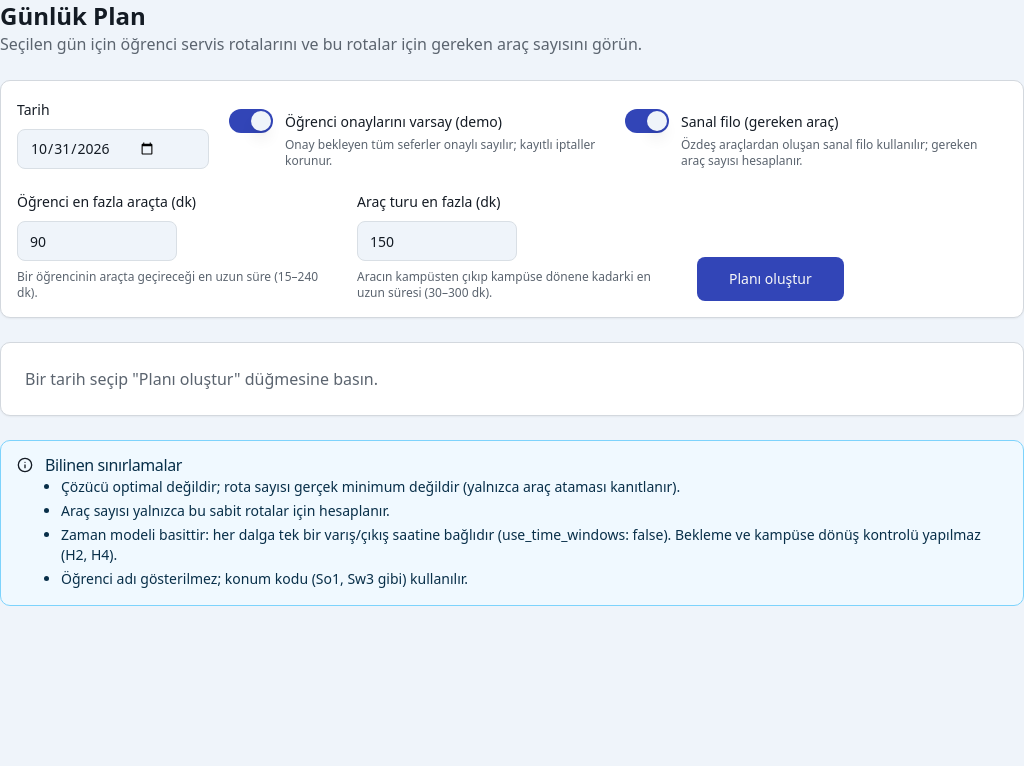
Test: DailyPlanPage › sends the adjusted limits
The width and height of the screenshot is (1024, 766).
In the date field labelled "Tarih": (113,149) [17,129,209,169], type "2026-10-05"
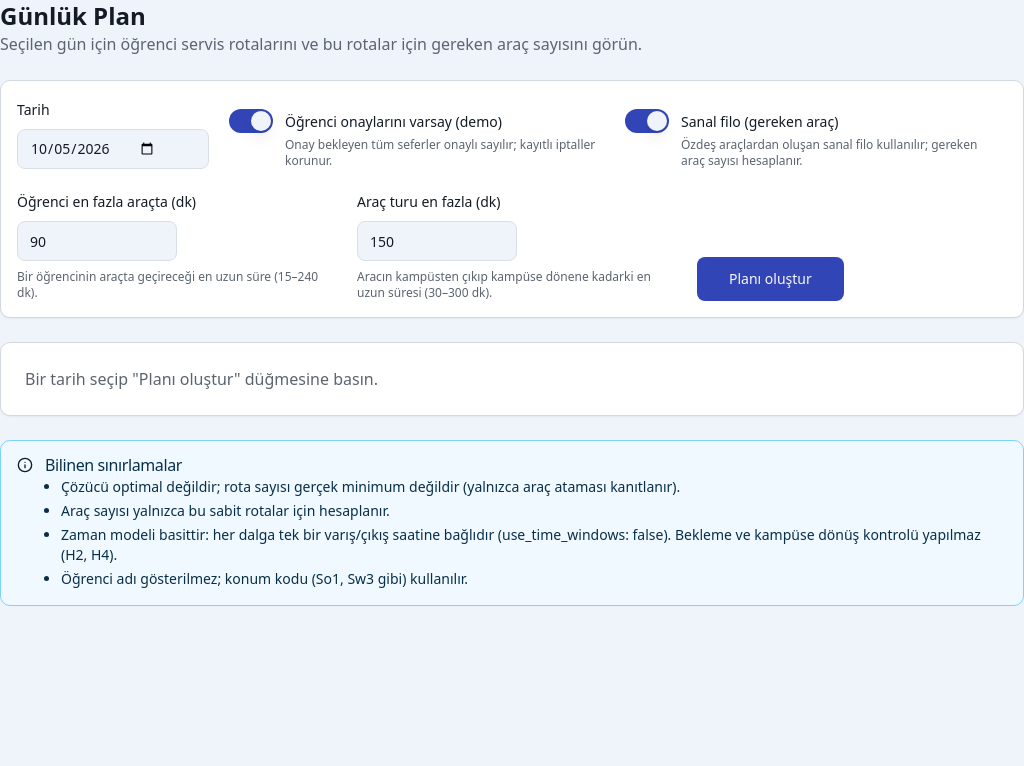
Replace the text in the number field labelled "Öğrenci en fazla araçta (dk)" with "60": (97,241) [17,221,177,261]
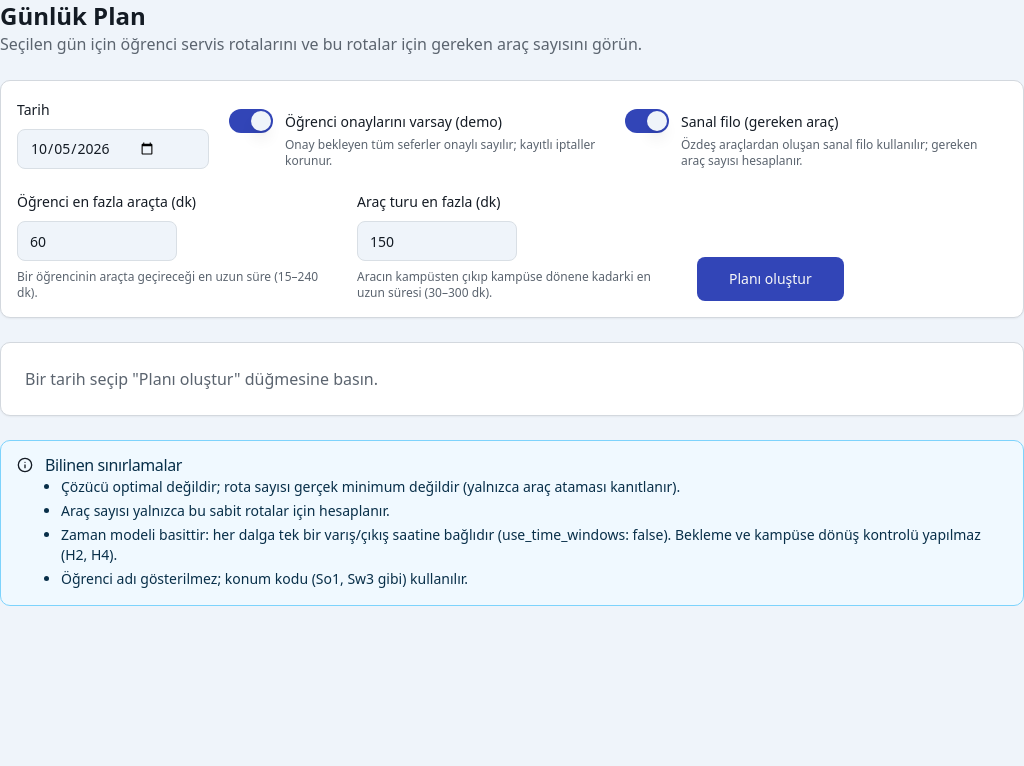
Replace the text in the number field labelled "Araç turu en fazla (dk)" with "200": (437,241) [357,221,517,261]
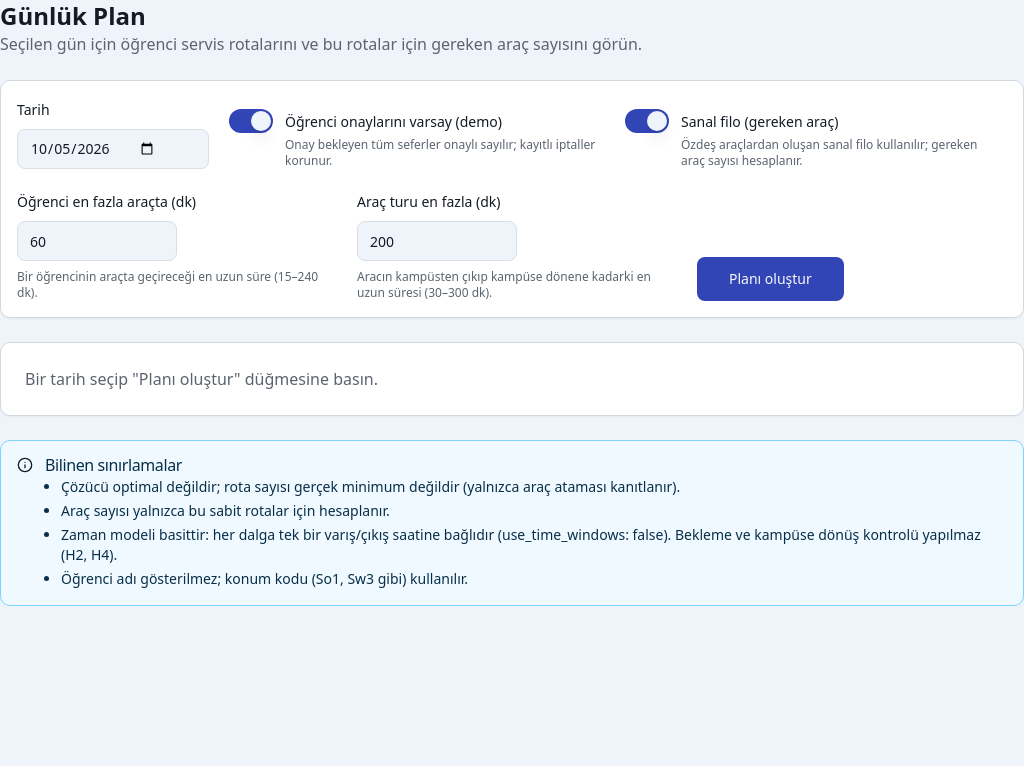
Click the button "Planı oluştur": (770,279) [697,257,844,301]
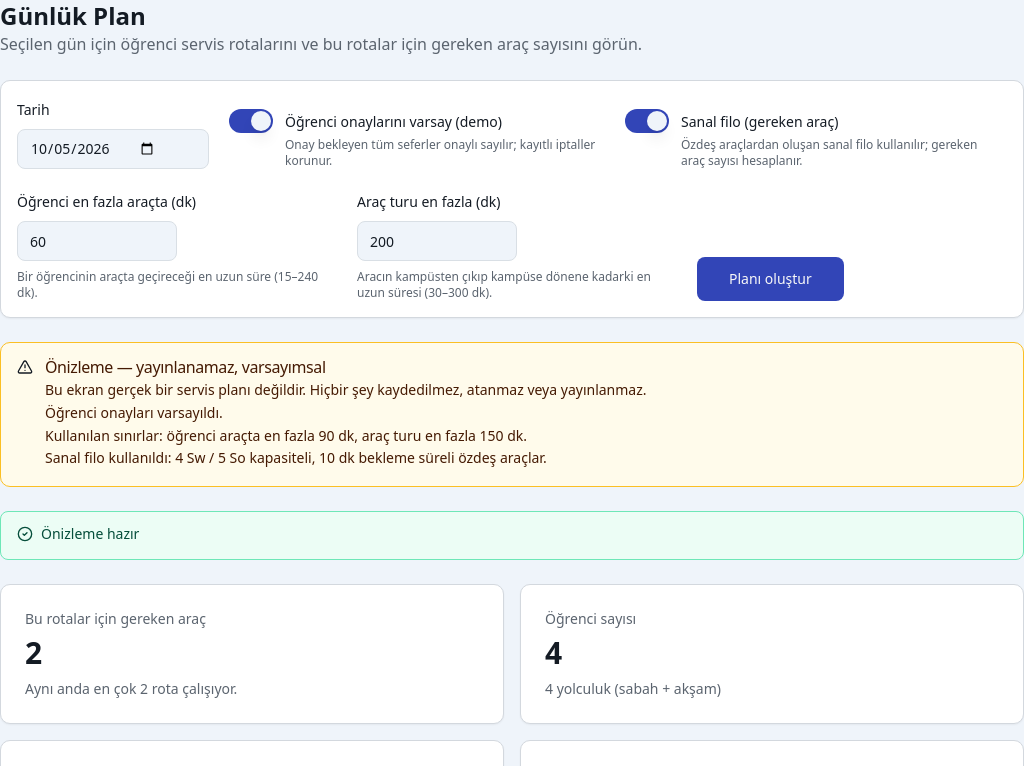
Expected: the message with test id "preview-banner" is shown, [0,342,1023,487]
